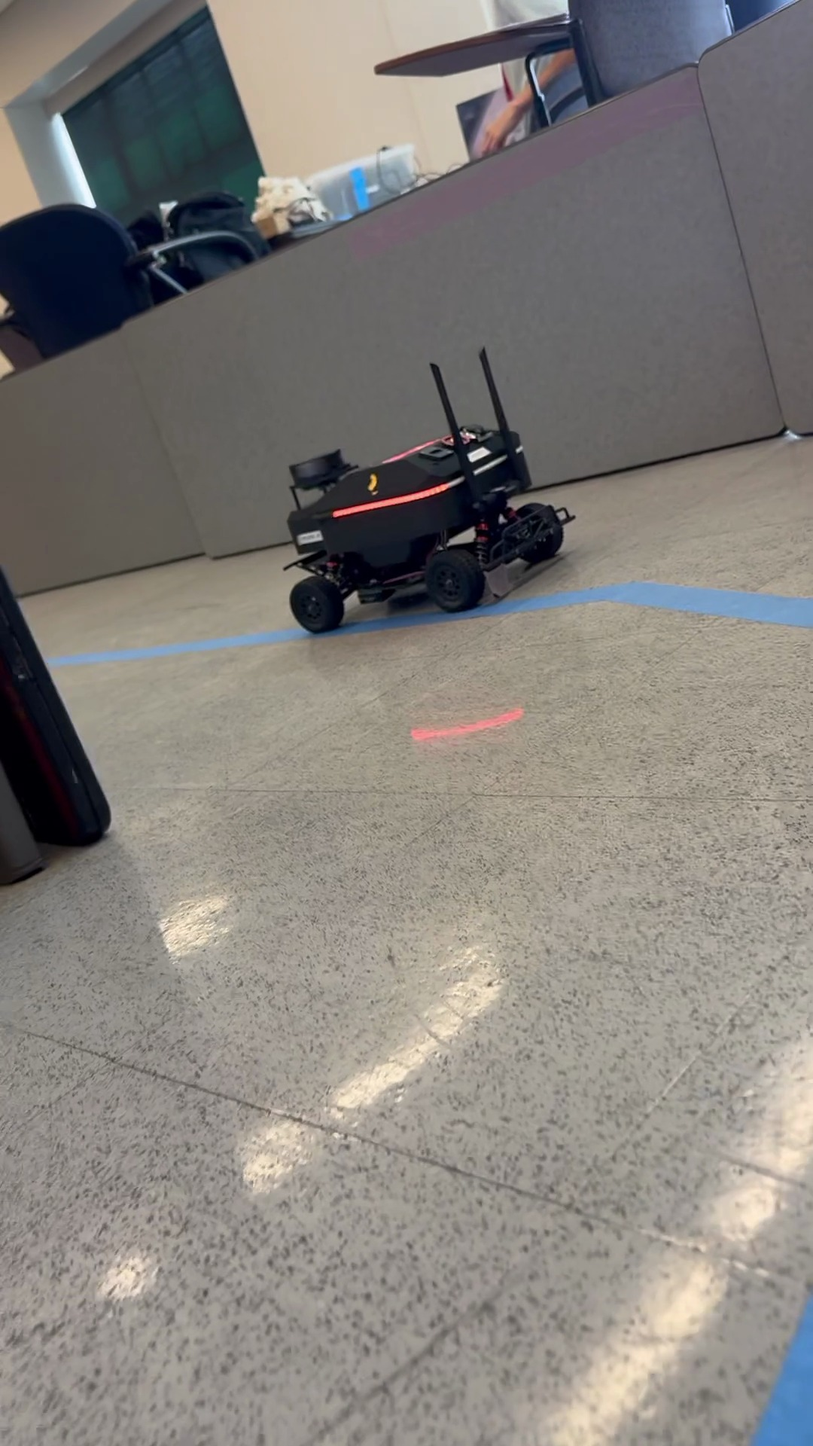racecar: (282, 348, 573, 634)
